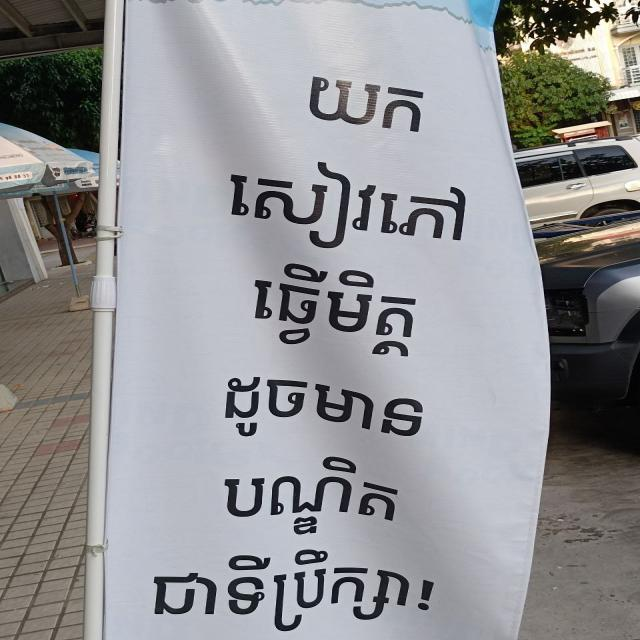Yolov11kh: (213, 146, 484, 268), (126, 546, 447, 634), (243, 254, 433, 364), (203, 454, 412, 546), (220, 368, 433, 448), (306, 70, 433, 140)
